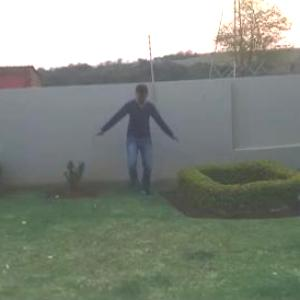land: (95, 84, 181, 204)
